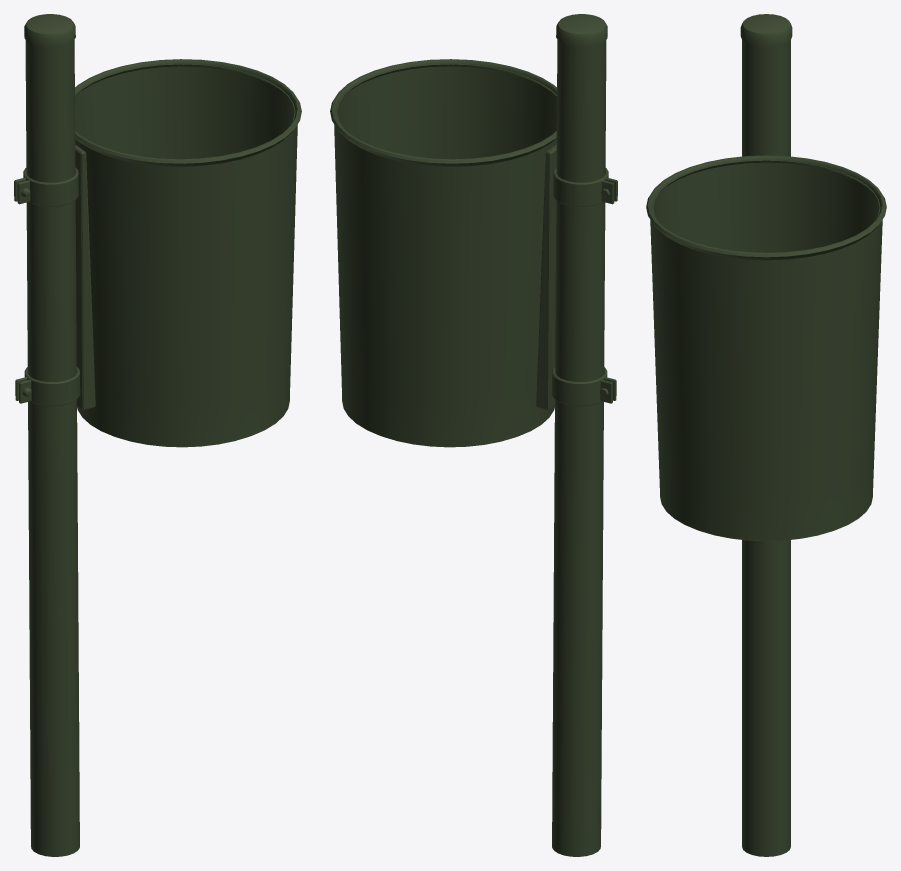
Rendered from K1_pole_open_A.glb.
3 views of the same model, side by side, from view 1: azimuth 30°, elevation 25°; view 2: azimuth 150°, elevation 25°; view 3: azimuth 270°, elevation 25° (orthographic).
Visible parts, largest first — view 1: k1_bin, k1_post, k1_strap, k1_clamp_1, k1_clamp_0; view 2: k1_bin, k1_post, k1_strap, k1_clamp_1, k1_clamp_0; view 3: k1_bin, k1_post.
Boxes of the visible parts, x1,y1,x2,y2 form: k1_bin: (75, 59, 301, 447); k1_post: (24, 14, 79, 856); k1_strap: (75, 145, 95, 410); k1_clamp_1: (23, 167, 78, 206); k1_clamp_0: (24, 367, 80, 406); k1_bin: (330, 59, 556, 447); k1_post: (552, 14, 607, 856); k1_strap: (536, 145, 556, 410); k1_clamp_1: (553, 167, 608, 206); k1_clamp_0: (551, 367, 607, 406); k1_bin: (646, 155, 886, 541); k1_post: (740, 14, 792, 856).
Bounding box in the file's own units: 0.4801 × 1.41 × 0.373.
